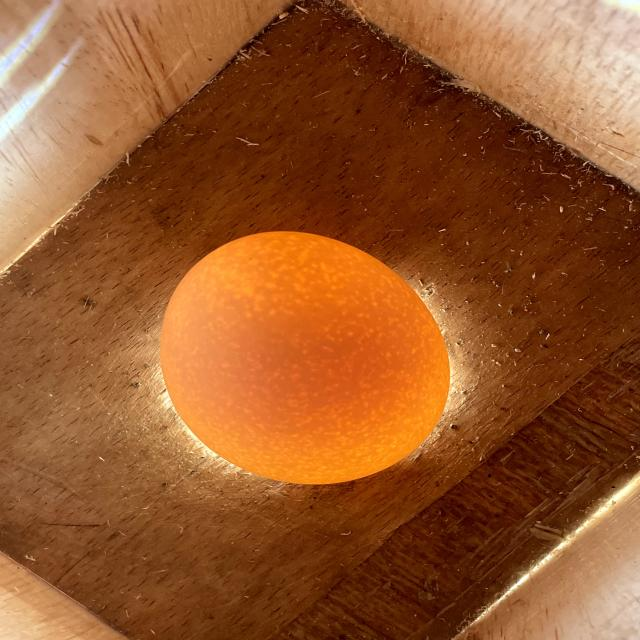infertile: (160, 231, 450, 484)
